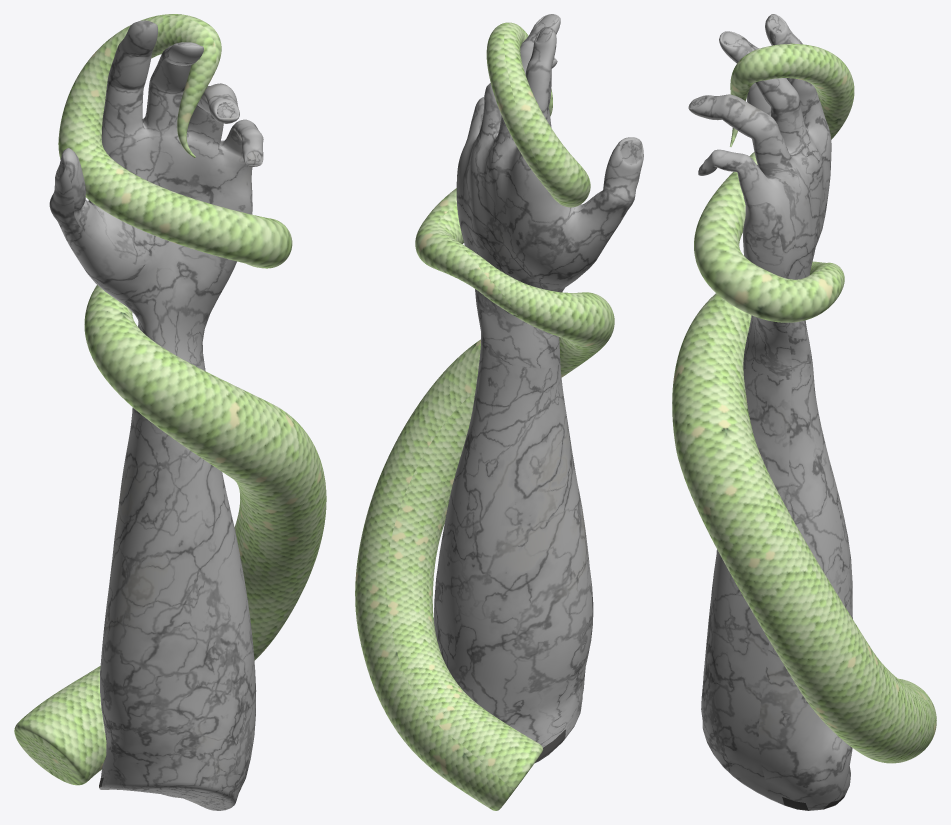
3 renders of one model, left to right at view 1: azimuth 30°, elevation 25°; view 2: azimuth 150°, elevation 25°; view 3: azimuth 270°, elevation 25°, orthographic. The views are drawn at different scales.
Visible parts, largest first — view 1: MBlab_bd1547382886.8075042_2, tentacle1_3; view 2: MBlab_bd1547382886.8075042_2, tentacle1_3; view 3: MBlab_bd1547382886.8075042_2, tentacle1_3.
Boxes of the visible parts, x1,y1,x2,y2 form: MBlab_bd1547382886.8075042_2: (49, 20, 263, 810); tentacle1_3: (14, 14, 326, 785); MBlab_bd1547382886.8075042_2: (433, 14, 643, 762); tentacle1_3: (355, 22, 614, 810); MBlab_bd1547382886.8075042_2: (688, 14, 852, 810); tentacle1_3: (672, 43, 936, 763).
Size of what is drawn, in the model's own units: 0.1713 by 0.4859 by 0.1535.
Materials: 2 (2 with a texture image).
